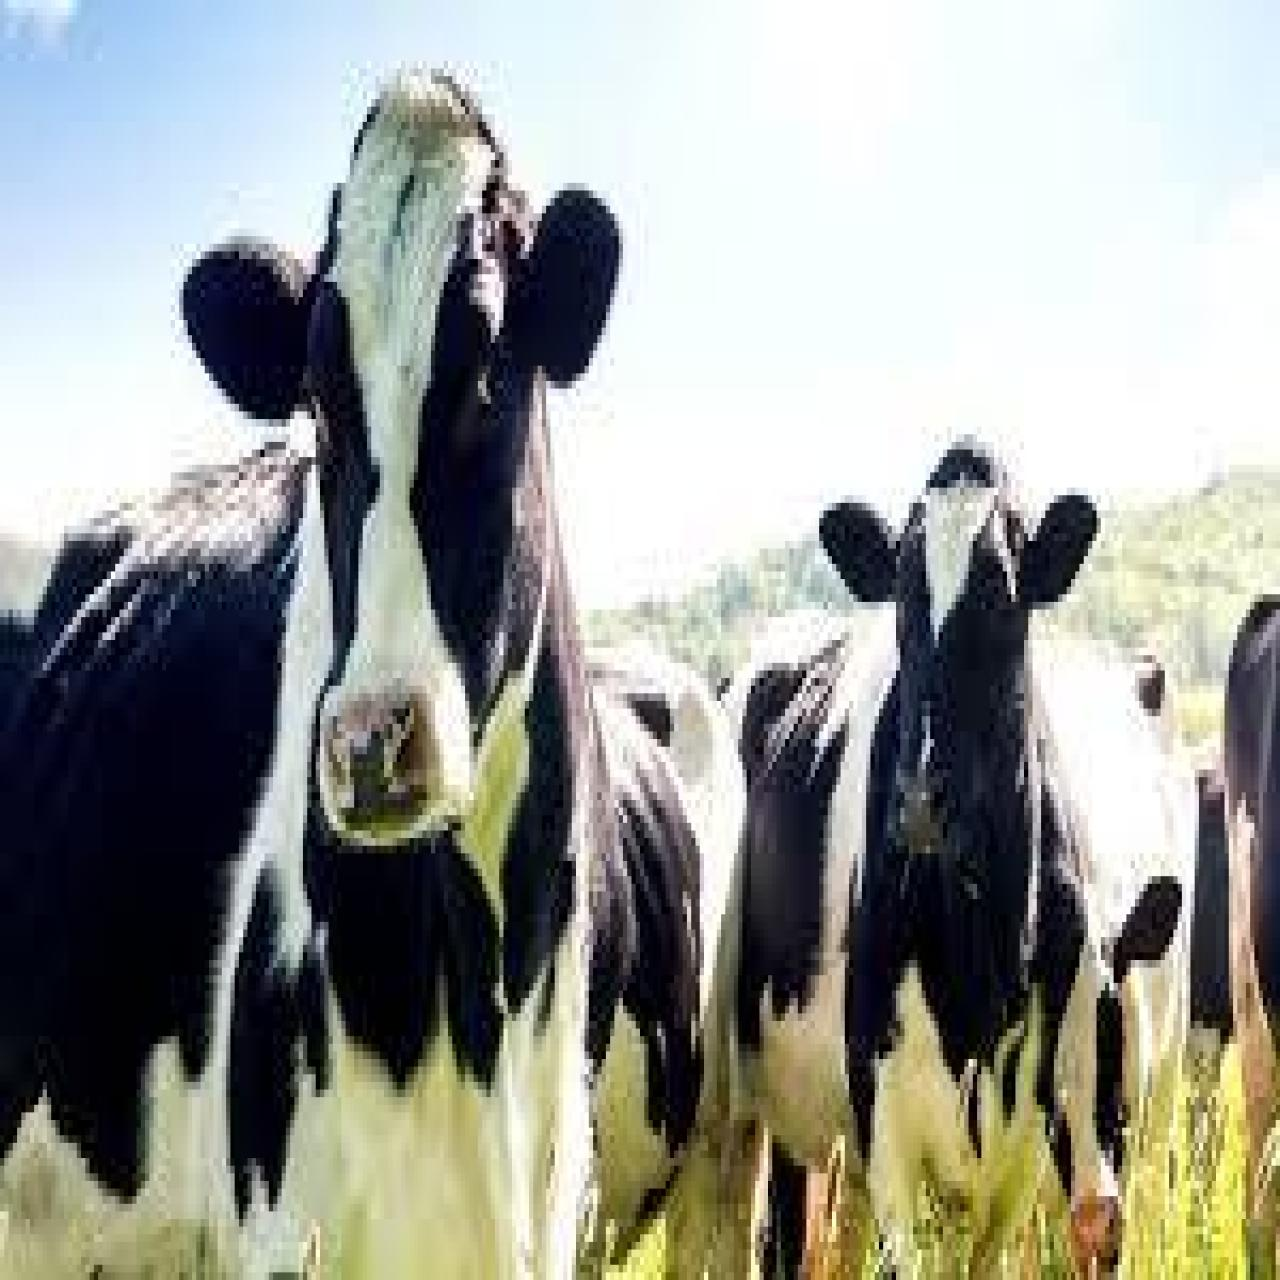cow: (0, 61, 622, 1280), (721, 442, 1097, 1280)
